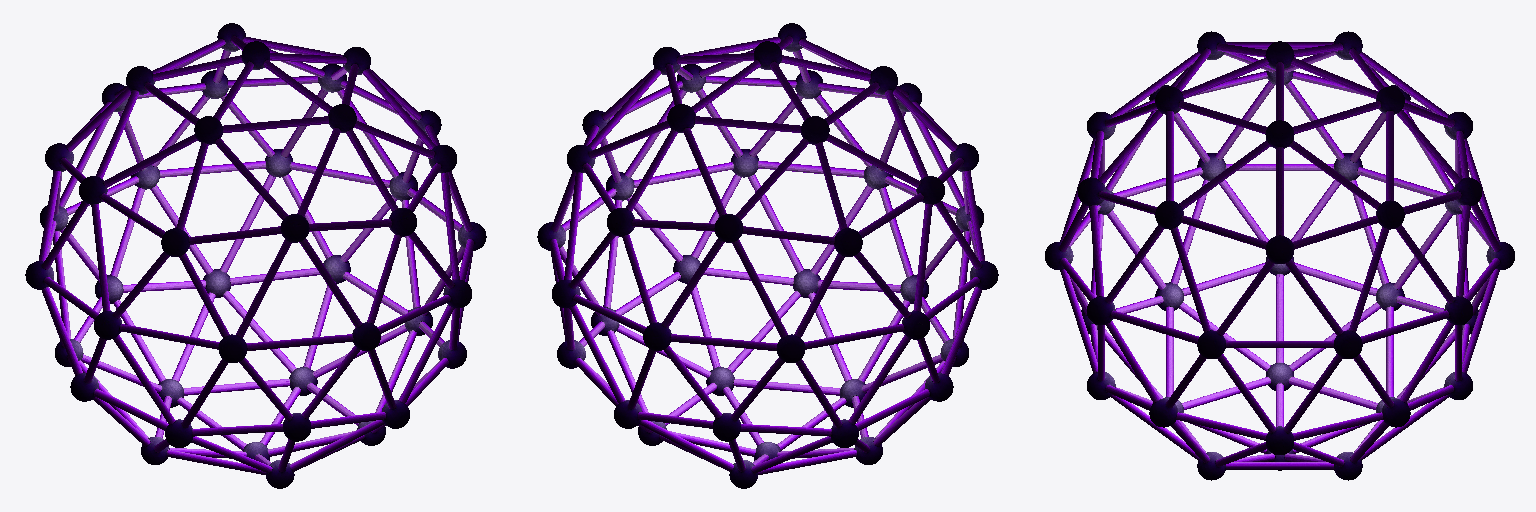
The picture shows the model from 3 angles: view 1: azimuth 30°, elevation 25°; view 2: azimuth 150°, elevation 25°; view 3: azimuth 270°, elevation 25°; orthographic projection.
Parts seen in each view (by area): view 1: stems_Icosphere, balls_Icosphere.001; view 2: stems_Icosphere, balls_Icosphere.001; view 3: stems_Icosphere, balls_Icosphere.001.
Part boxes in pixels (x1,y1,x2,y2): stems_Icosphere: (39,36,473,474); balls_Icosphere.001: (25,23,486,488); stems_Icosphere: (550,36,984,474); balls_Icosphere.001: (537,23,998,488); stems_Icosphere: (1059,42,1500,469); balls_Icosphere.001: (1045,31,1514,480).
Bounding box in the file's own units: 2.03 × 2.13 × 2.13.
Materials: 2 (2 with a texture image).